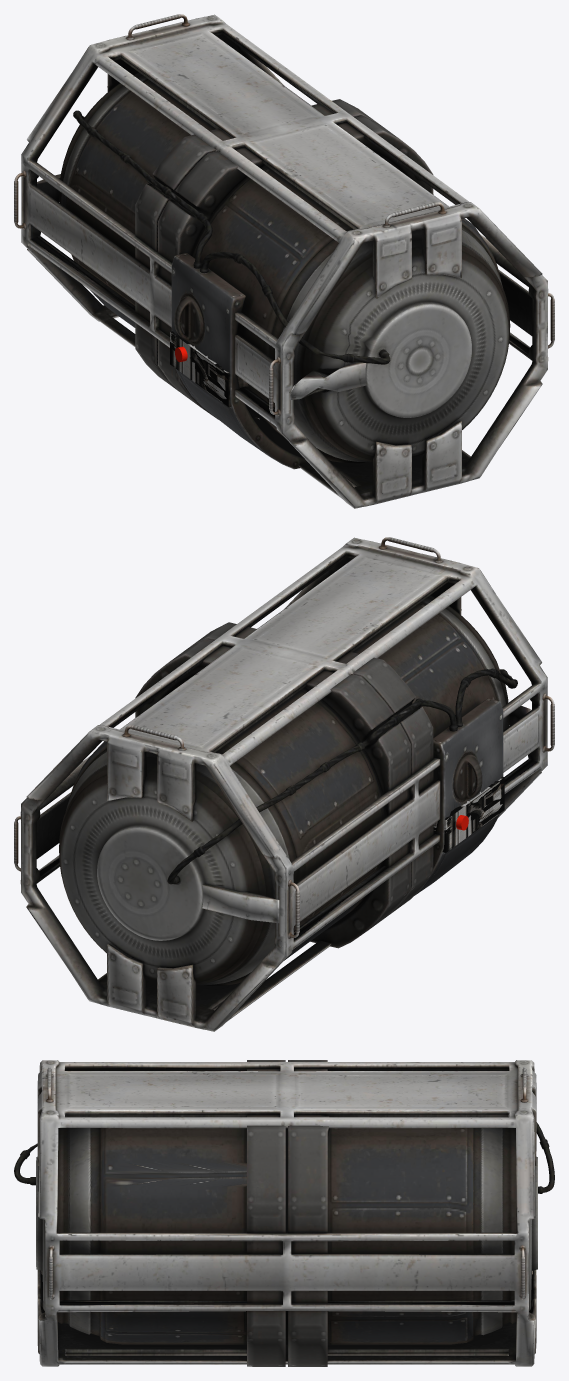
Rendered from generator.fbx.
The picture shows the model from 3 angles, top to bottom: view 1: azimuth 30°, elevation 25°; view 2: azimuth 150°, elevation 25°; view 3: azimuth 270°, elevation 25°; orthographic projection. The views are drawn at different scales.
Visible parts, largest first — view 1: Emergency_Backup_Generator, Cube.001; view 2: Emergency_Backup_Generator, Cube.001; view 3: Emergency_Backup_Generator.
Boxes of the visible parts, box(x1,y1,x2,y2) form: Emergency_Backup_Generator: box(14, 14, 554, 508); Cube.001: box(170, 331, 249, 407); Emergency_Backup_Generator: box(14, 537, 554, 1031); Cube.001: box(433, 776, 504, 852); Emergency_Backup_Generator: box(14, 1060, 554, 1366).
Bounding box in the file's own units: 416 × 383 × 715.
